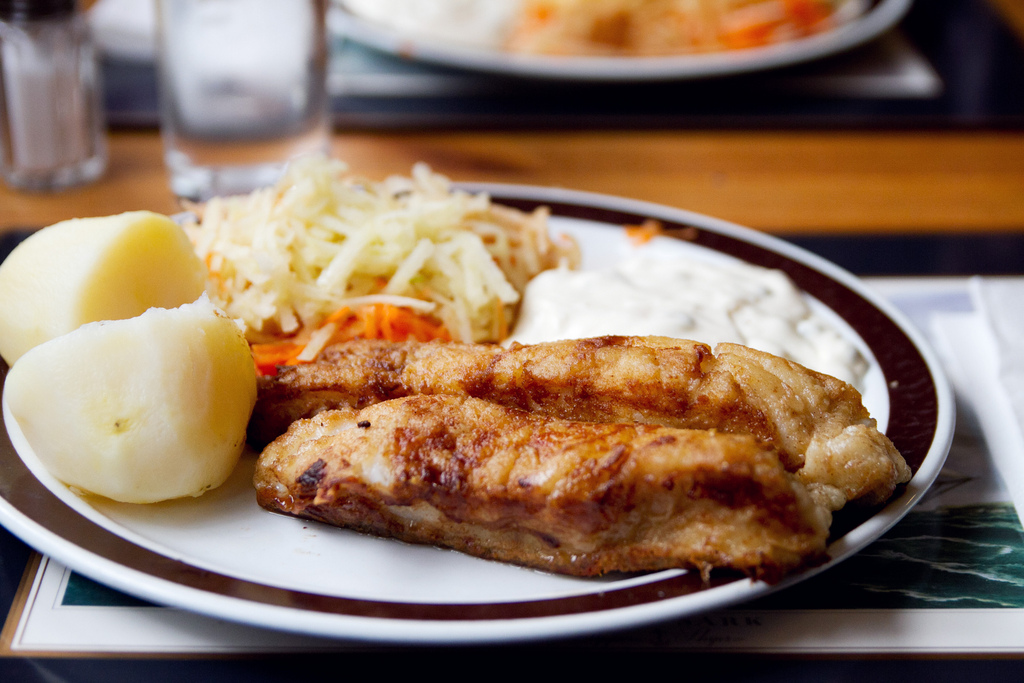boiled potatoes: (9, 305, 246, 503), (3, 211, 206, 361)
